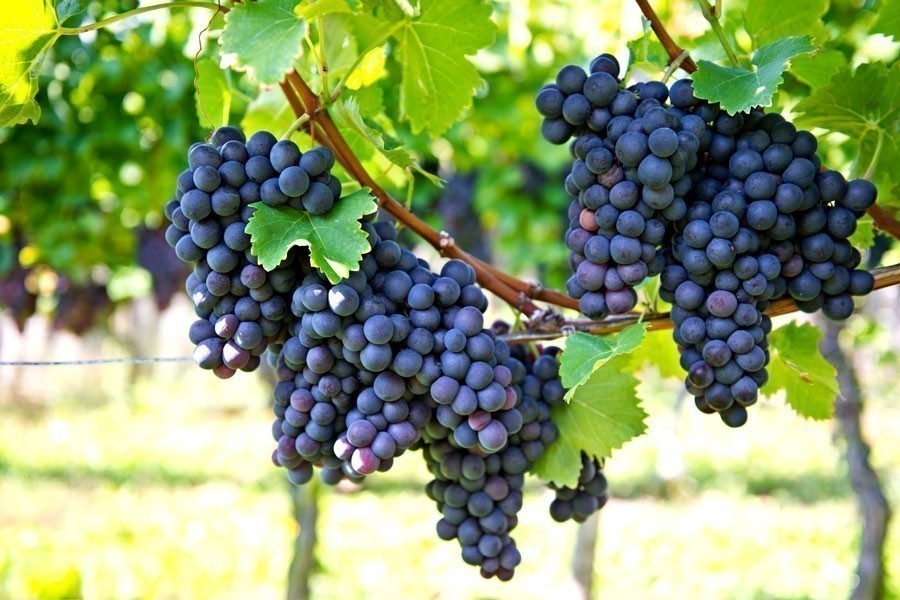Black grapes: (307, 244, 541, 475), (178, 124, 335, 384), (680, 93, 789, 424), (563, 56, 675, 326), (437, 320, 541, 594), (766, 122, 880, 330), (550, 444, 613, 536)
